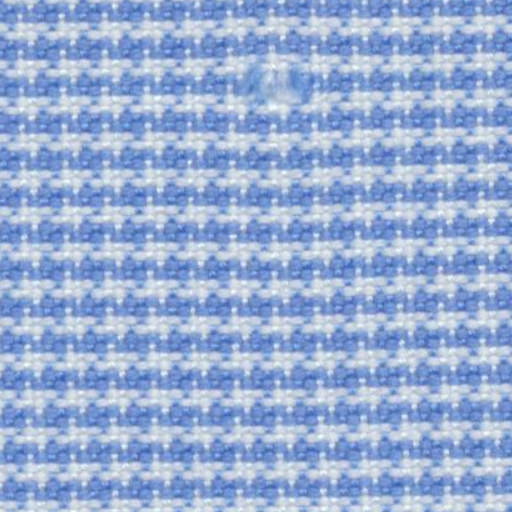PoDong: (223, 42, 341, 144)
